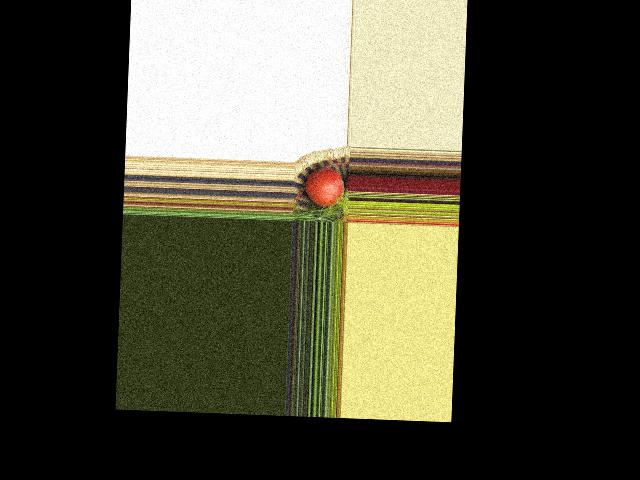tomato: (305, 167, 344, 208)
